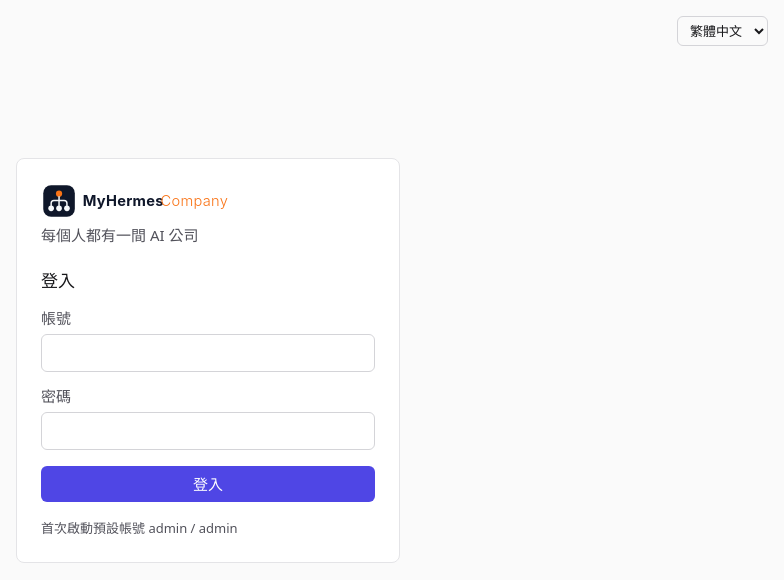
Test: 登入流程 › 語言切換到英文
The width and height of the screenshot is (784, 580).
Select "English" in the dropdown named "語言" at (722, 31), box [677, 16, 768, 46]
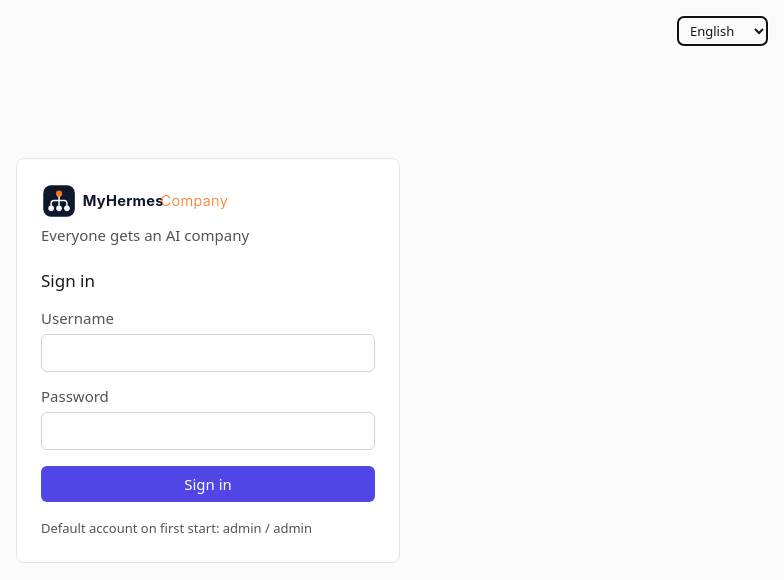
expect the heading "Sign in" is shown: met, box [41, 268, 95, 292]
Select "繁體中文" in the dropdown named "Language" at (722, 31), box [677, 16, 768, 46]
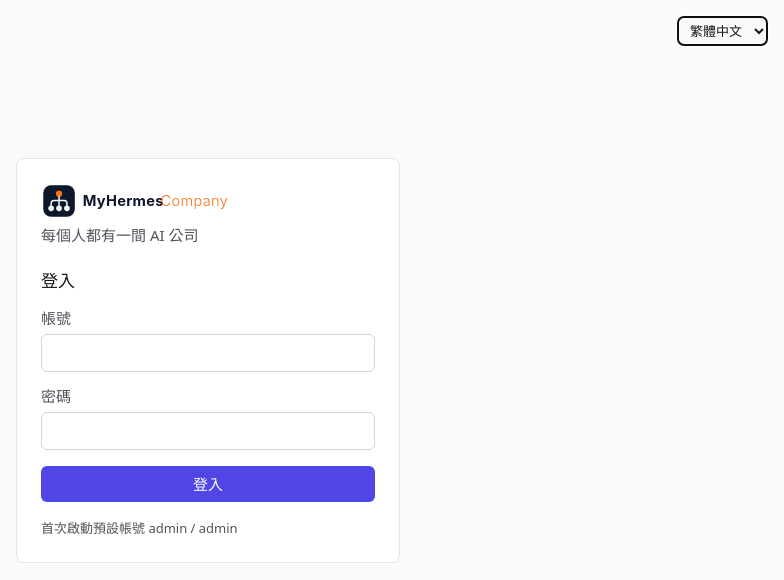
expect the heading "登入" is shown: met, box [41, 268, 75, 292]
